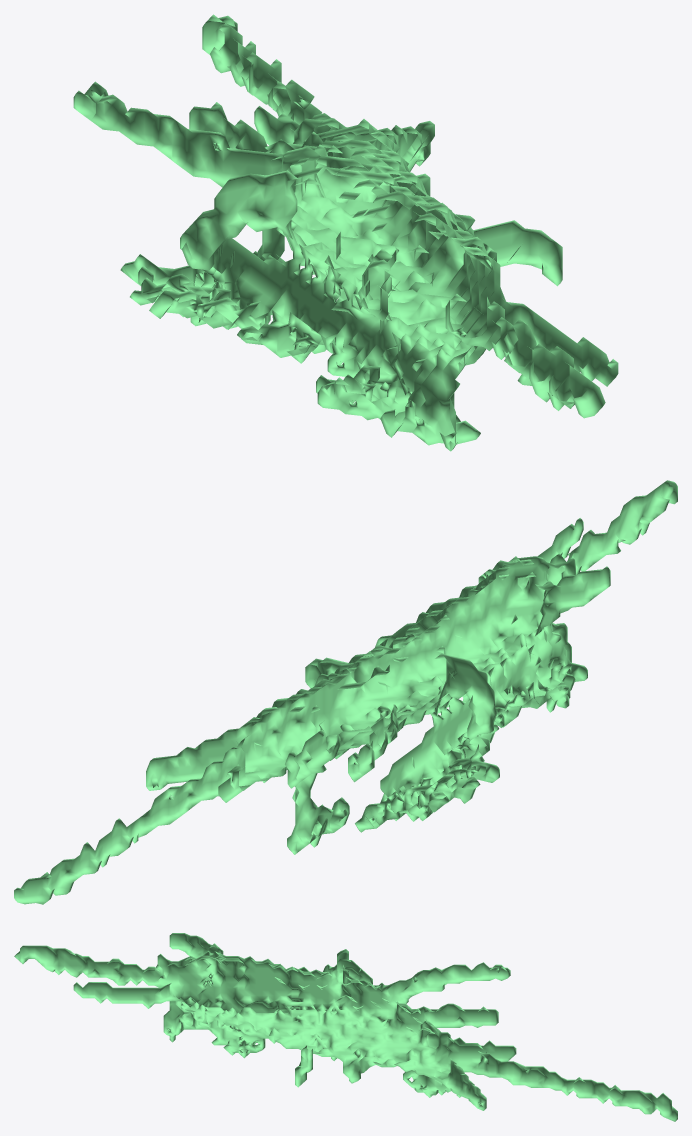
Rendered from osteocyte_19.glb.
3 renders of one model, top to bottom at view 1: azimuth 30°, elevation 25°; view 2: azimuth 150°, elevation 25°; view 3: azimuth 270°, elevation 25°, orthographic. The views are drawn at different scales.
Parts seen in each view (by area): view 1: osteocyte_19; view 2: osteocyte_19; view 3: osteocyte_19.
Part boxes in pixels (x1,y1,x2,y2): osteocyte_19: (73, 14, 618, 451); osteocyte_19: (14, 480, 677, 904); osteocyte_19: (14, 933, 677, 1121).
Bounding box in the file's own units: 18.3 × 11.07 × 53.44.
